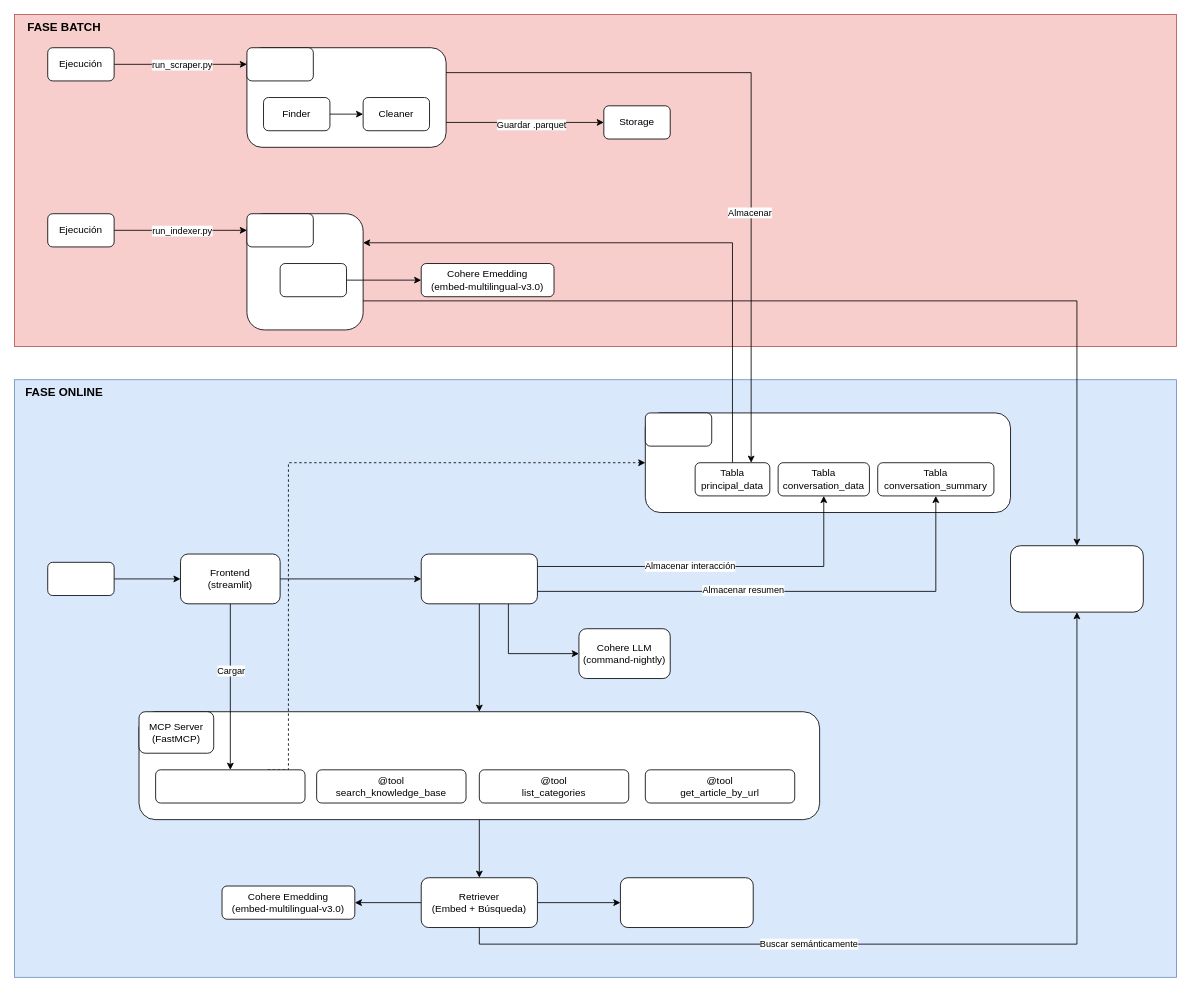
Image size: 1191x992. Some labels were removed from this diagram. The centre of each missing label's shape, as x and y in pixels:
@resource knowledgebase_stats: the point at 230,786
Agente (orquesta + memoria): the point at 478,578
Carpeta Indexer: the point at 279,230
Carpeta Scraper: the point at 279,64
Cohere Reranker (rerank-v3.5): the point at 686,902
Indexer: the point at 313,280
SQLite: the point at 678,429
Usuario: the point at 80,578
Vector DB (Pinecone): the point at 1076,578
